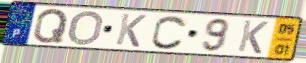9: (200, 17, 232, 53)
C: (150, 14, 189, 51)
K: (114, 12, 148, 49), (236, 19, 270, 56)
O: (66, 9, 105, 47)
Q: (31, 8, 70, 45)
